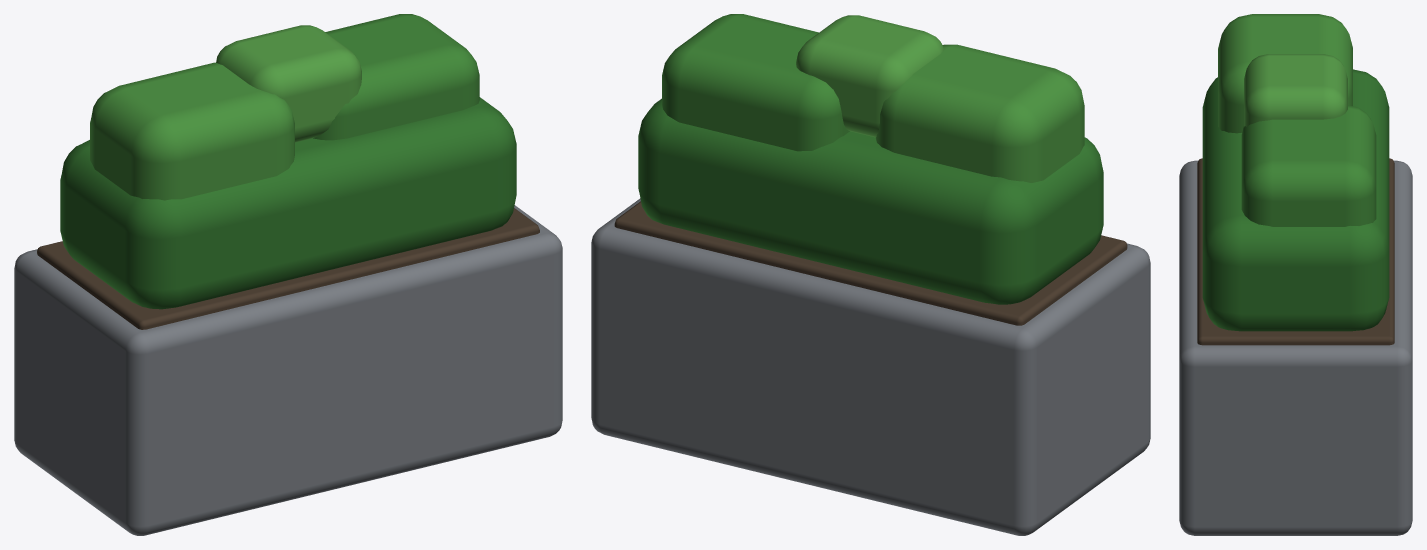
The model's file is planter.glb.
The picture shows the model from 3 angles, left to right: view 1: azimuth 30°, elevation 25°; view 2: azimuth 150°, elevation 25°; view 3: azimuth 270°, elevation 25°; orthographic projection. The views are drawn at different scales.
Parts seen in each view (by area): view 1: Planter; view 2: Planter; view 3: Planter.
Boxes of the visible parts, x1,y1,x2,y2 form: Planter: [14, 14, 562, 535]; Planter: [591, 14, 1150, 535]; Planter: [1179, 14, 1412, 535].
Bounding box in the file's own units: 1.8 × 1.58 × 0.9.
